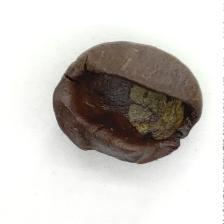NG: (64, 68, 190, 149)
